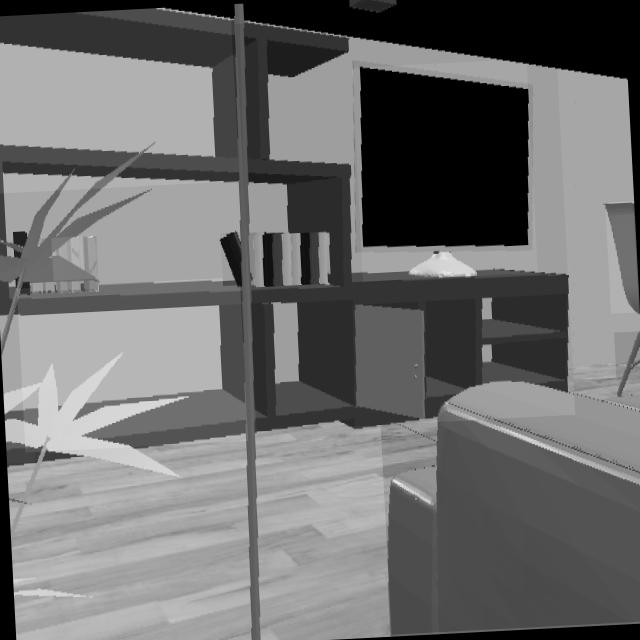book: (249, 233, 329, 285), (53, 236, 98, 278), (221, 233, 242, 285), (32, 282, 98, 293)
bookshelf: (245, 24, 568, 429), (0, 9, 237, 181), (18, 281, 245, 446), (0, 146, 132, 237), (7, 445, 35, 464)
chair: (606, 203, 638, 310), (618, 335, 640, 396)
monitor: (355, 68, 530, 276)
sofa: (388, 383, 640, 634)
